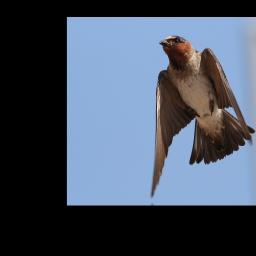Swallow: (144, 31, 256, 199)
